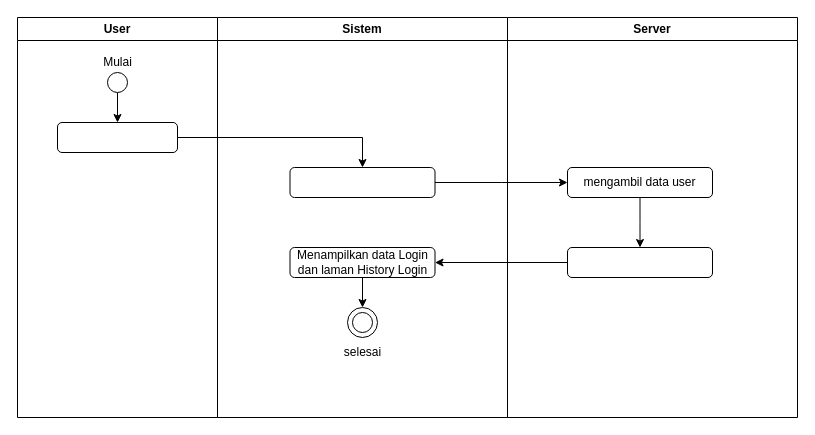
This 815x435 diagram has some shape labels left out. The box of each missing label's shape, as (x1, y1, x2, y2) in pixels:
meminta data Login milik User: (289, 166, 435, 198)
mengirm data Login: (566, 246, 712, 278)
Mengklik tombol History Login: (56, 122, 178, 152)
